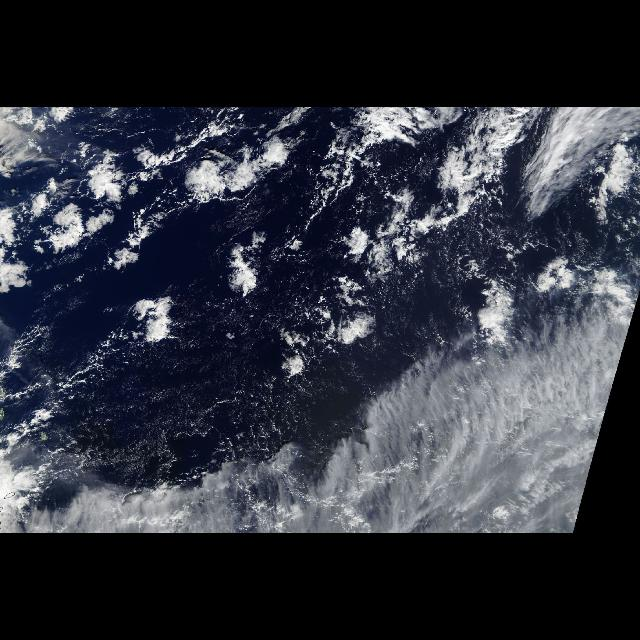Fish: (322, 108, 532, 238)
Flower: (46, 123, 382, 389)
Gravel: (359, 168, 539, 342)
